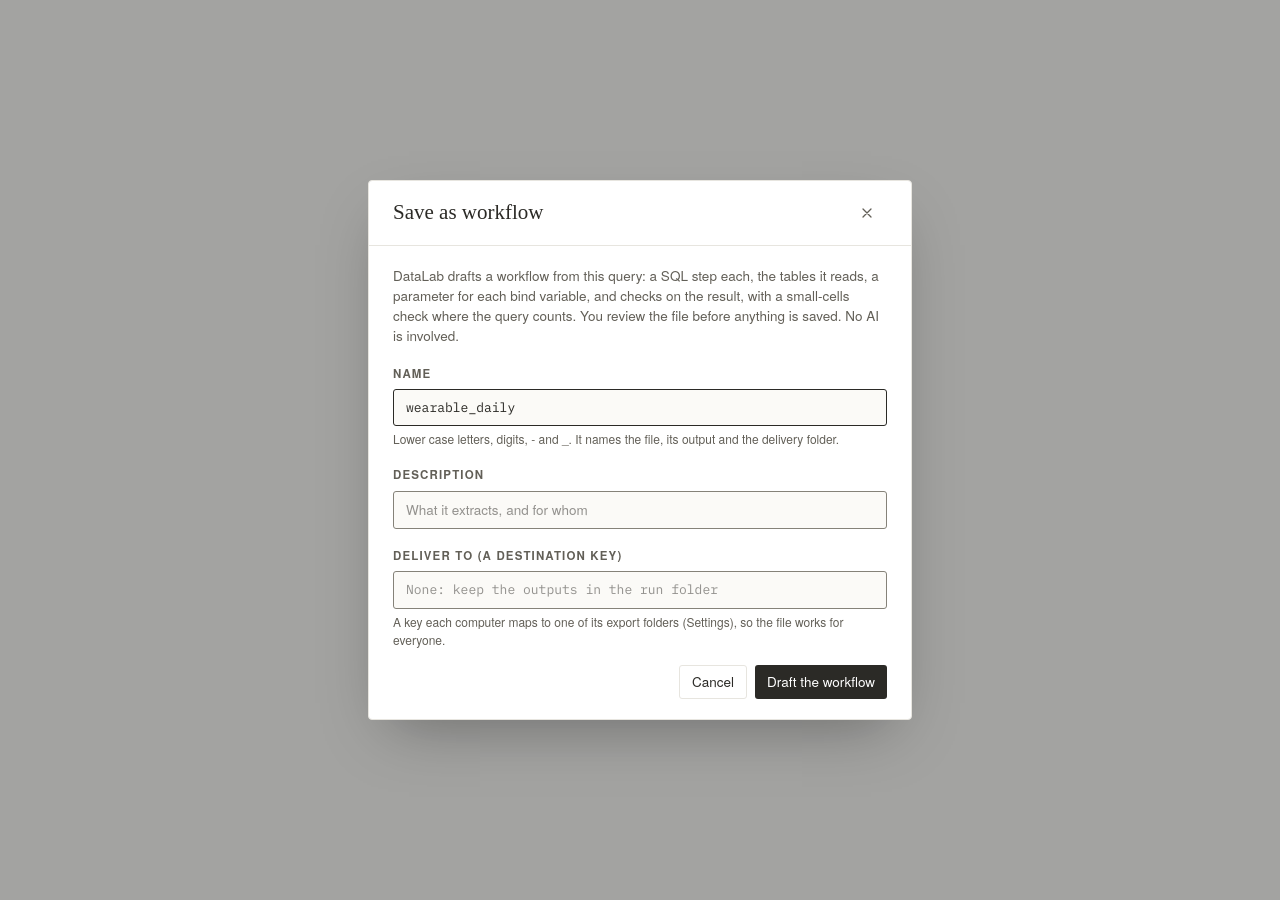
Test: says why a query the SQL check refuses can't be drafted
Click the button "Draft the workflow".
click(821, 682)  # box [755,665,887,699]
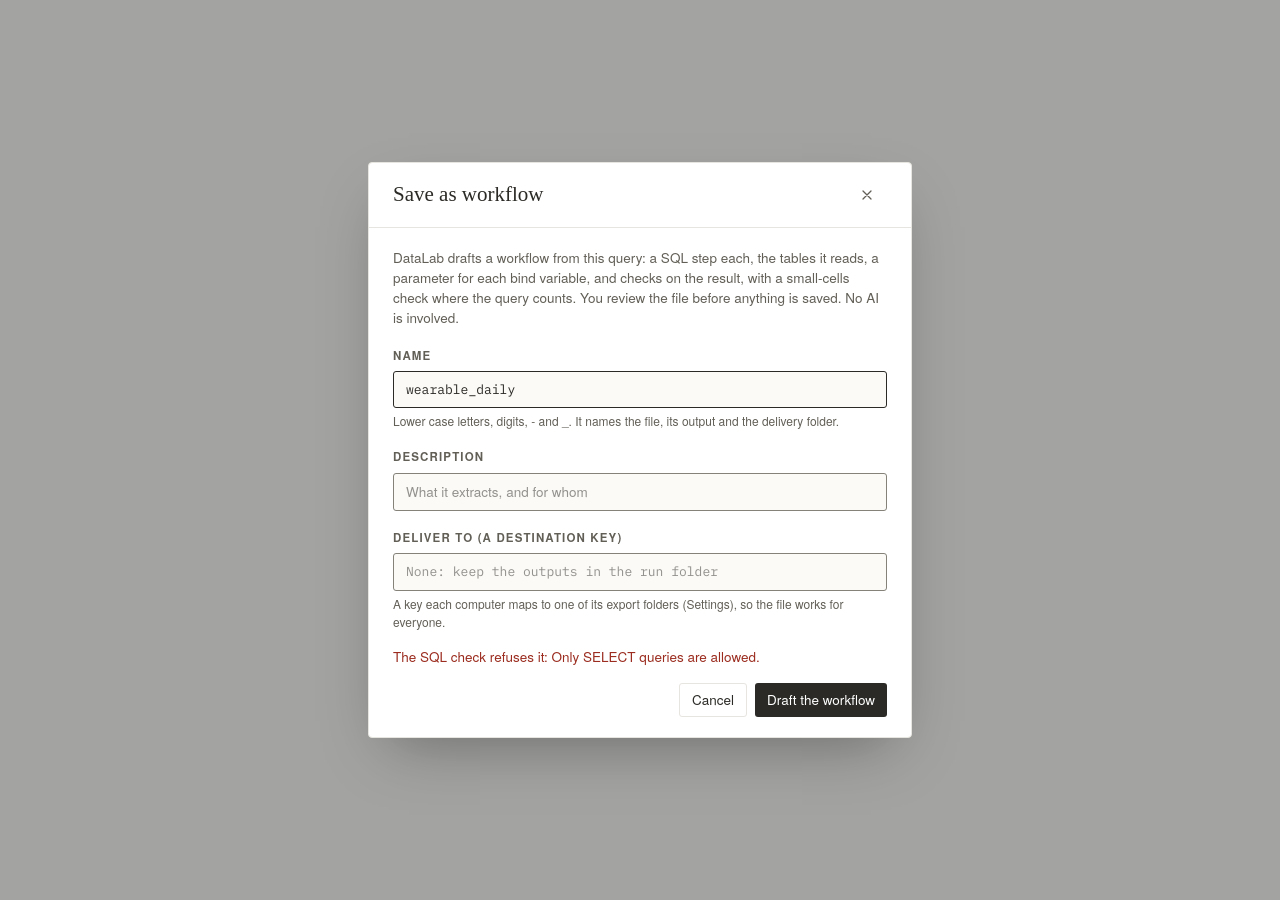
Now the message shows "The SQL check refuses it", box [393,646,760,666]
